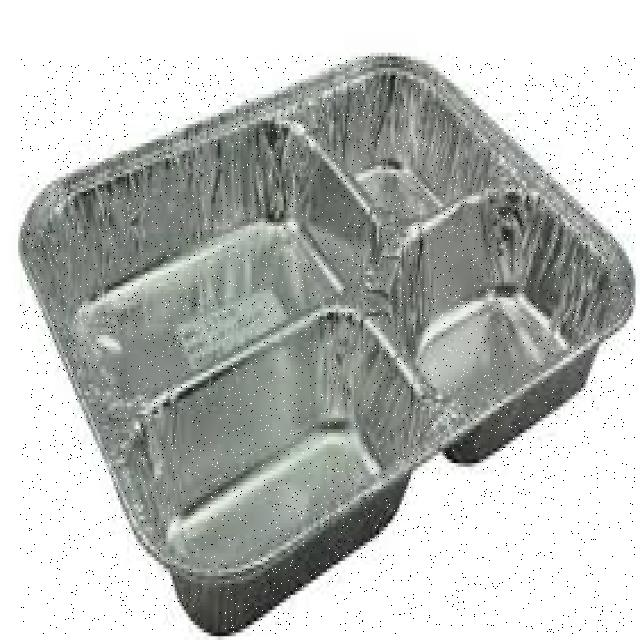metal: (21, 57, 635, 634)
